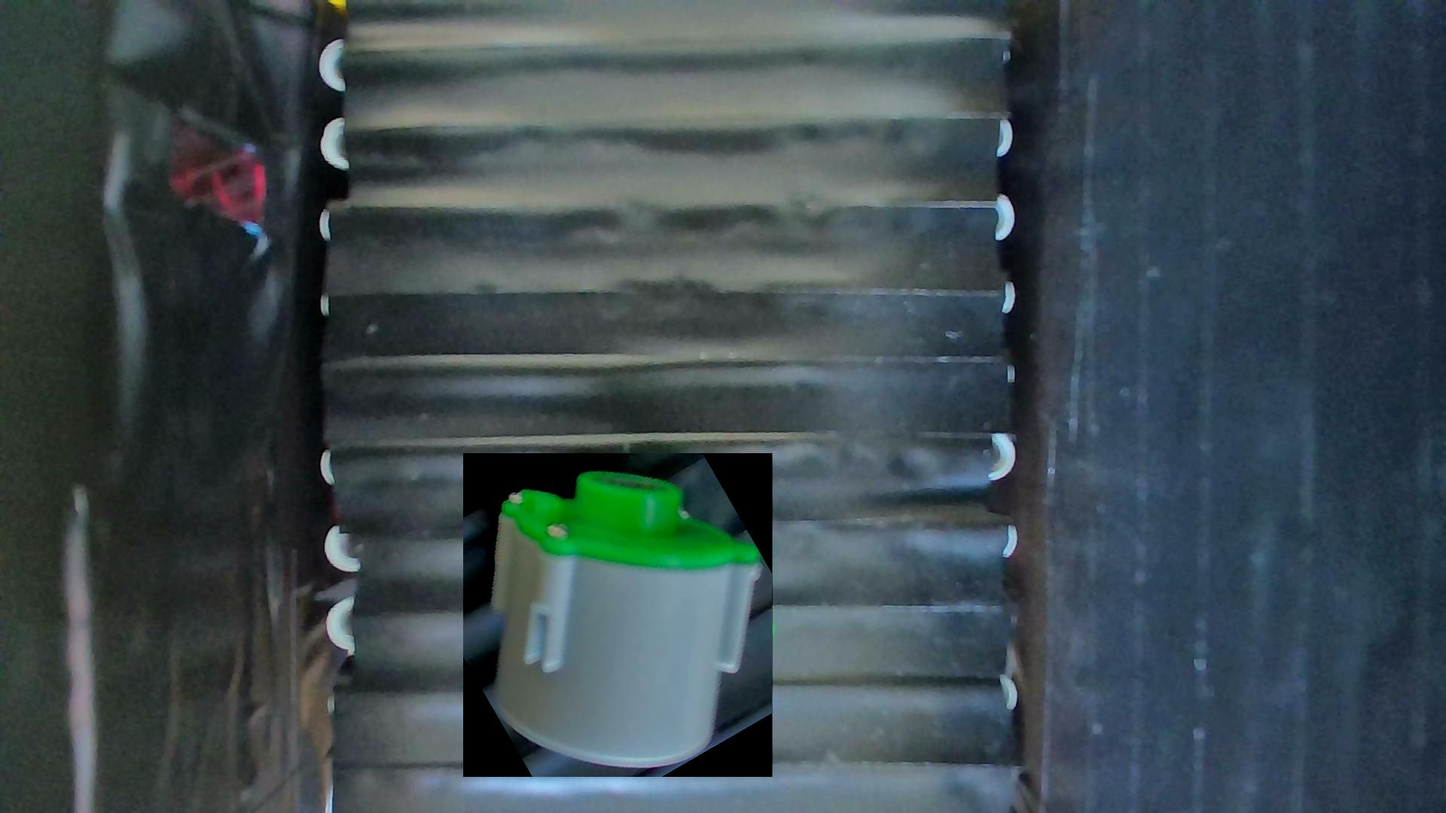cartridge: (464, 453, 773, 777)
